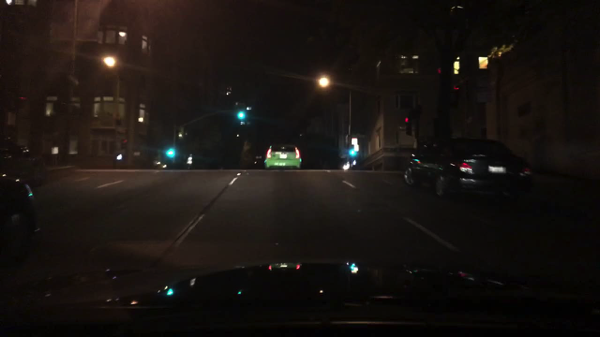car: (402, 137, 533, 201), (0, 178, 39, 263), (0, 137, 45, 188), (263, 143, 302, 170), (186, 154, 220, 170)
traffic light: (404, 117, 411, 136), (166, 149, 175, 157), (237, 111, 245, 119), (121, 138, 126, 148), (349, 149, 356, 156), (452, 84, 460, 90), (436, 67, 441, 74)
